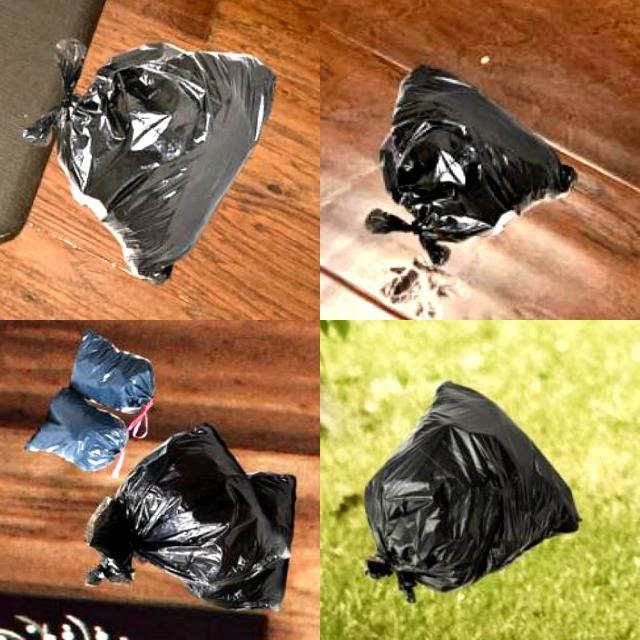Single-layer Plastic: (25, 40, 275, 282), (365, 382, 580, 601), (365, 65, 576, 266), (86, 424, 296, 609), (25, 330, 155, 477)
